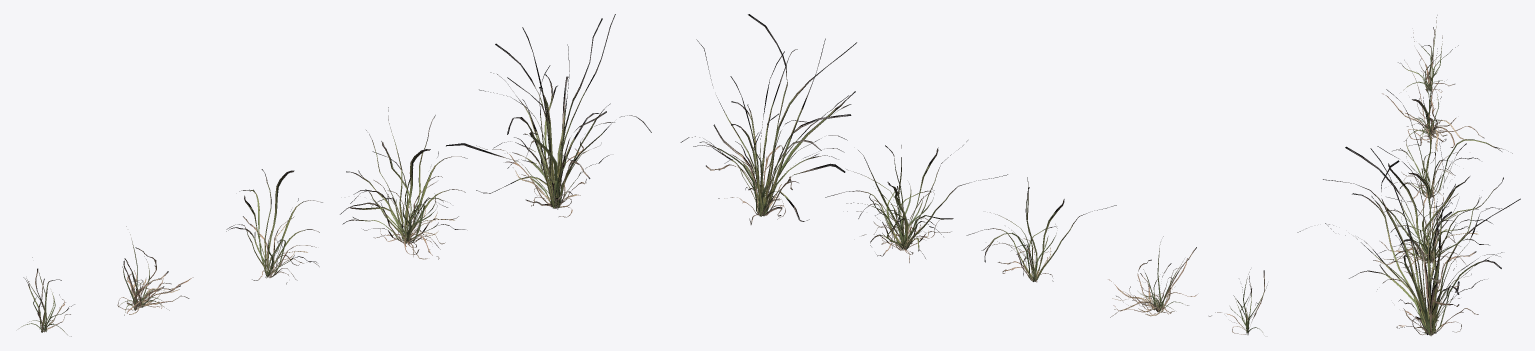
Rendered from grass_medium_02.glb.
The picture shows the model from 3 angles, left to right: view 1: azimuth 30°, elevation 25°; view 2: azimuth 150°, elevation 25°; view 3: azimuth 270°, elevation 25°; orthographic projection. The views are drawn at different scales.
Parts seen in each view (by area): view 1: grass_medium_02_e, grass_medium_02_d, grass_medium_02_c, grass_medium_02_b, grass_medium_02_a; view 2: grass_medium_02_e, grass_medium_02_d, grass_medium_02_c, grass_medium_02_b, grass_medium_02_a; view 3: grass_medium_02_e, grass_medium_02_d, grass_medium_02_c, grass_medium_02_b, grass_medium_02_a.
Part boxes in pixels (<box>): grass_medium_02_e: <box>446,14,651,217</box>; grass_medium_02_d: <box>340,107,467,259</box>; grass_medium_02_c: <box>226,169,322,284</box>; grass_medium_02_b: <box>117,226,193,315</box>; grass_medium_02_a: <box>19,257,74,336</box>; grass_medium_02_e: <box>680,14,856,224</box>; grass_medium_02_d: <box>825,140,1007,262</box>; grass_medium_02_c: <box>966,177,1116,282</box>; grass_medium_02_b: <box>1108,236,1197,317</box>; grass_medium_02_a: <box>1209,269,1267,334</box>; grass_medium_02_e: <box>1297,142,1520,335</box>; grass_medium_02_d: <box>1323,143,1503,274</box>; grass_medium_02_c: <box>1386,89,1512,215</box>; grass_medium_02_b: <box>1382,48,1484,151</box>; grass_medium_02_a: <box>1398,15,1458,92</box>.
Size of the model in its own units: 1.31 by 0.4053 by 0.4332.
1 material, 1 textured.
